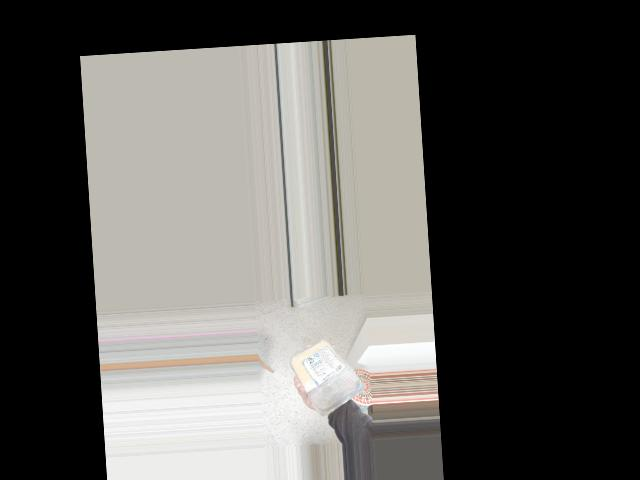cheese: (296, 332, 364, 412)
